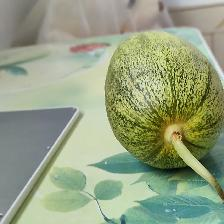gua: (113, 36, 211, 167)
